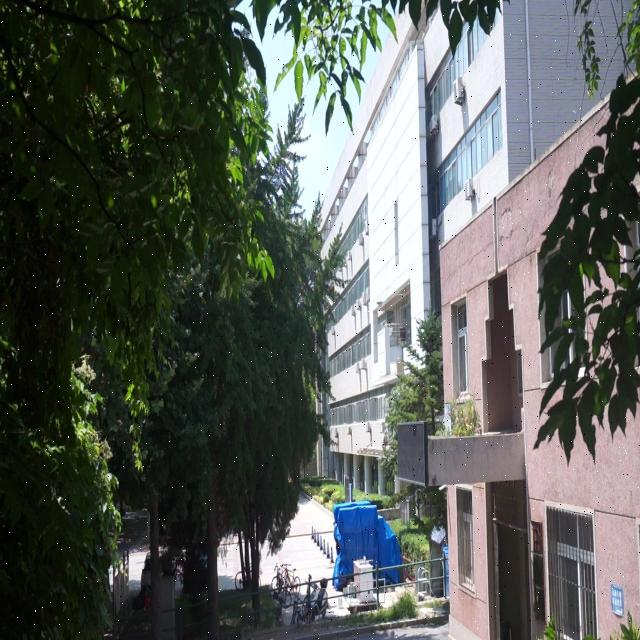UAV: (376, 301, 384, 308)
